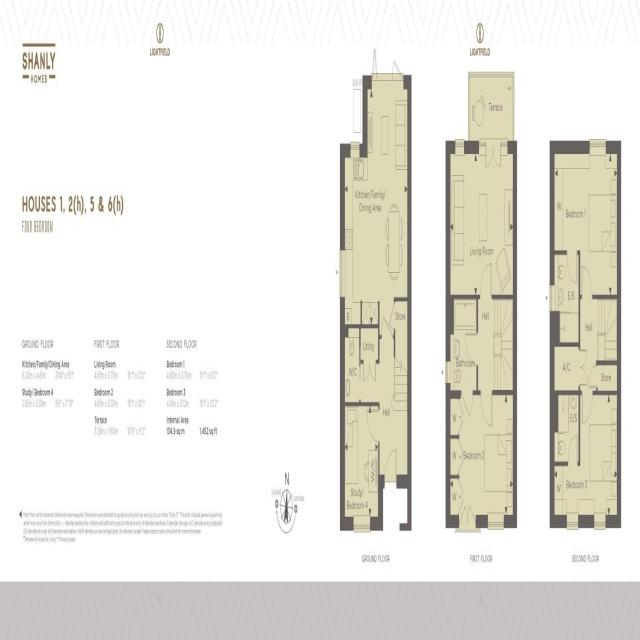DOOR: (384, 448, 397, 489), (464, 332, 478, 368), (366, 408, 380, 444), (479, 262, 492, 299), (566, 249, 578, 286), (480, 390, 492, 427), (581, 390, 593, 425), (581, 265, 593, 299), (460, 390, 473, 418), (381, 314, 394, 339), (568, 434, 578, 466)
DOUBLE DOOR: (486, 139, 501, 172)
ROOM: (339, 73, 411, 340), (550, 139, 622, 300), (446, 138, 517, 300), (446, 390, 517, 530), (549, 391, 621, 529), (340, 402, 383, 531)
WINDOW: (353, 514, 371, 534), (339, 249, 346, 299), (487, 512, 504, 531), (589, 139, 606, 156), (593, 511, 606, 531), (566, 513, 579, 531), (549, 283, 556, 313), (455, 138, 465, 156), (350, 141, 360, 159), (445, 360, 451, 385), (500, 140, 508, 157), (479, 139, 486, 158)
